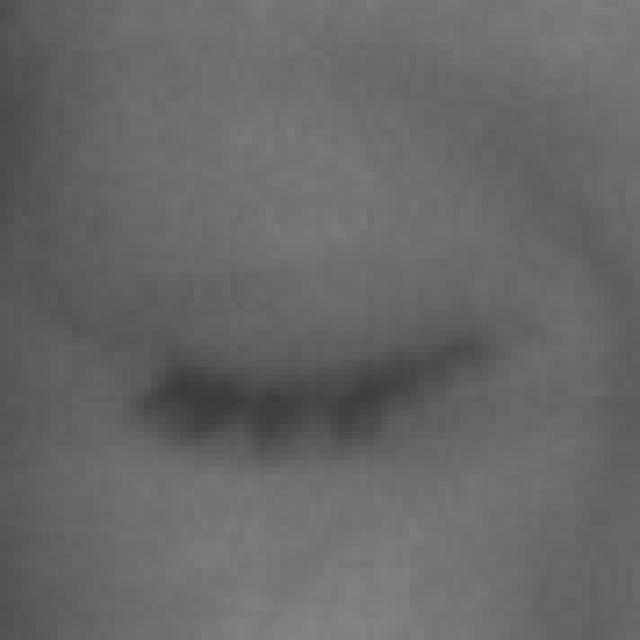Eyeclosed: (133, 226, 509, 567)
